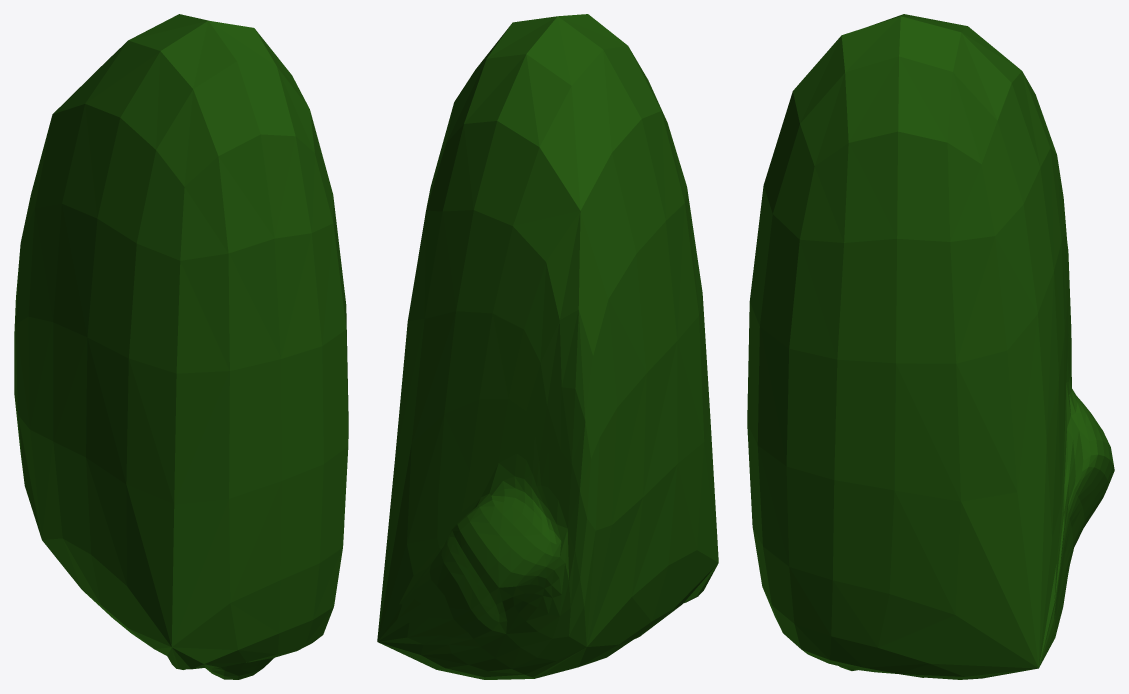
3 renders of one model, left to right at view 1: azimuth 30°, elevation 25°; view 2: azimuth 150°, elevation 25°; view 3: azimuth 270°, elevation 25°, orthographic.
Visible parts, largest first — view 1: 118_Cube.491; view 2: 118_Cube.491; view 3: 118_Cube.491.
Part boxes in pixels (x1,y1,x2,y2): 118_Cube.491: [14, 14, 348, 679]; 118_Cube.491: [377, 14, 718, 679]; 118_Cube.491: [747, 14, 1114, 679].
Size of the model in its own units: 4.65 by 11.91 by 6.11.
